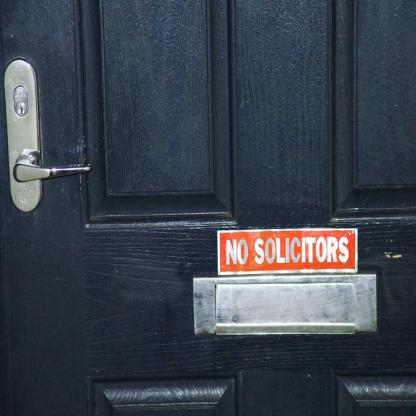door: (0, 0, 415, 415)
lever: (13, 162, 92, 184)
